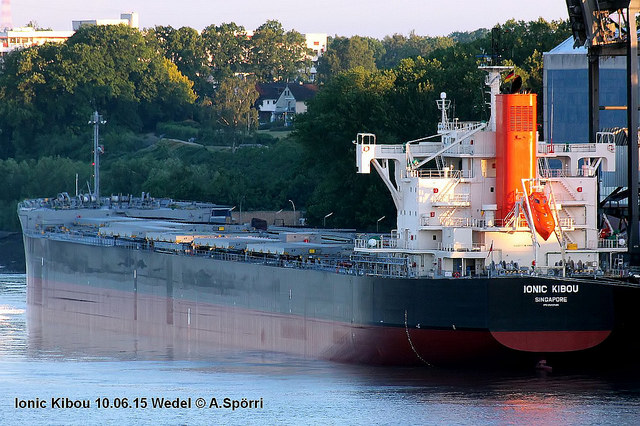bulk carrier: (22, 68, 628, 366)
